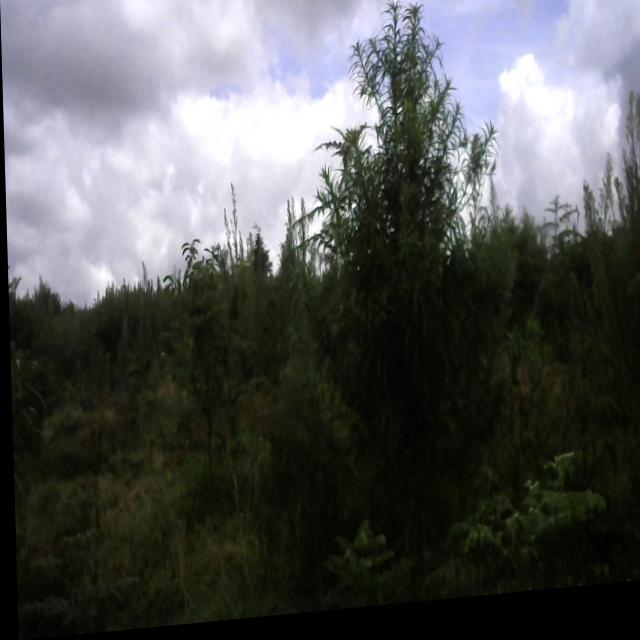other: (283, 0, 517, 619)
